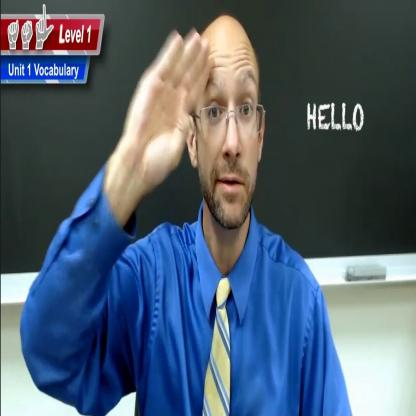Hello: (120, 10, 259, 281)
